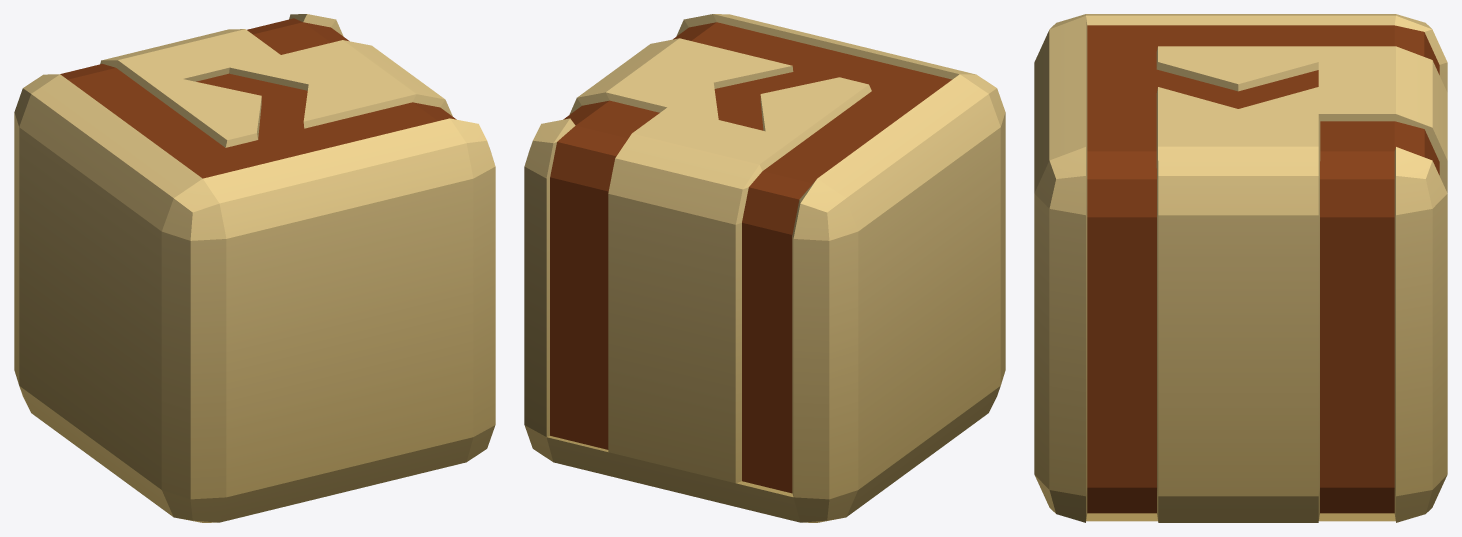
Rendered from Tile_JalurBuntutBelokPutih_2.fbx.
3 renders of one model, left to right at view 1: azimuth 30°, elevation 25°; view 2: azimuth 150°, elevation 25°; view 3: azimuth 270°, elevation 25°, orthographic. The views are drawn at different scales.
Visible parts, largest first — view 1: Jalur Ular Belok Putih_2; view 2: Jalur Ular Belok Putih_2; view 3: Jalur Ular Belok Putih_2.
Part boxes in pixels (left/top/right/bottom): Jalur Ular Belok Putih_2: left=14, top=14, right=495, bottom=522; Jalur Ular Belok Putih_2: left=524, top=14, right=1005, bottom=522; Jalur Ular Belok Putih_2: left=1034, top=14, right=1447, bottom=522.
Size of the model in its own units: 1 by 1 by 1.
Materials: 1 (1 with a texture image).
